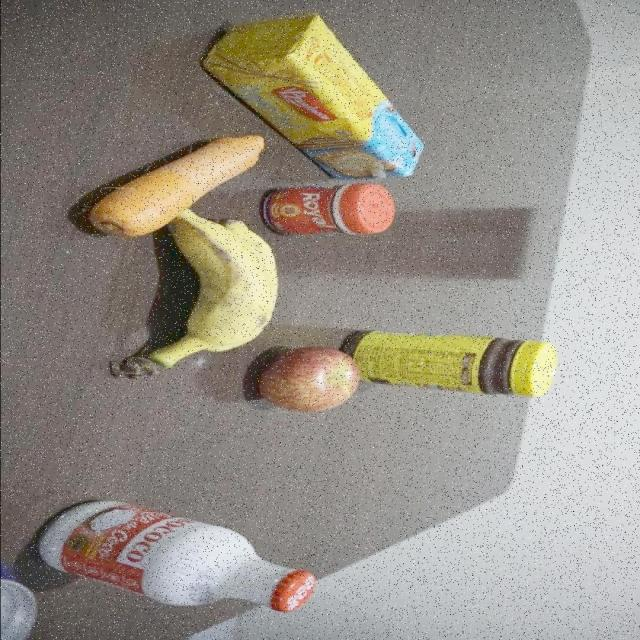Apple: (261, 351, 361, 412)
Banana: (130, 221, 269, 364)
Carrot: (69, 132, 266, 215)
ChocolatePowder: (372, 332, 563, 399)
CoconutMilk: (39, 500, 340, 613)
Cracker: (265, 9, 428, 181)
Yeast: (265, 184, 406, 239)
